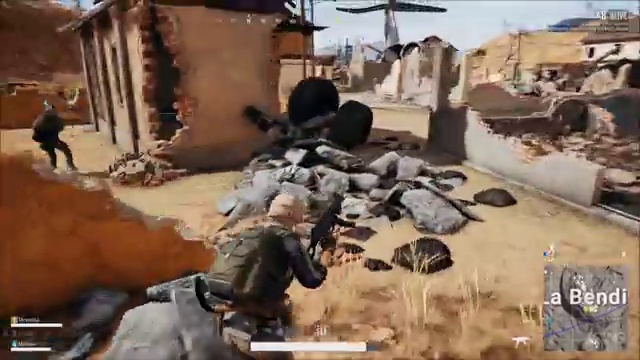Player: (189, 187, 360, 322), (24, 100, 95, 168)
